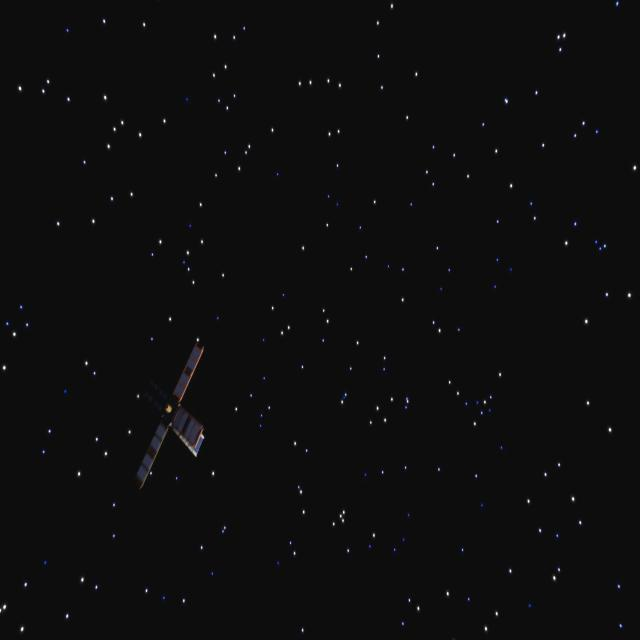medium_debris: (124, 330, 224, 500)
